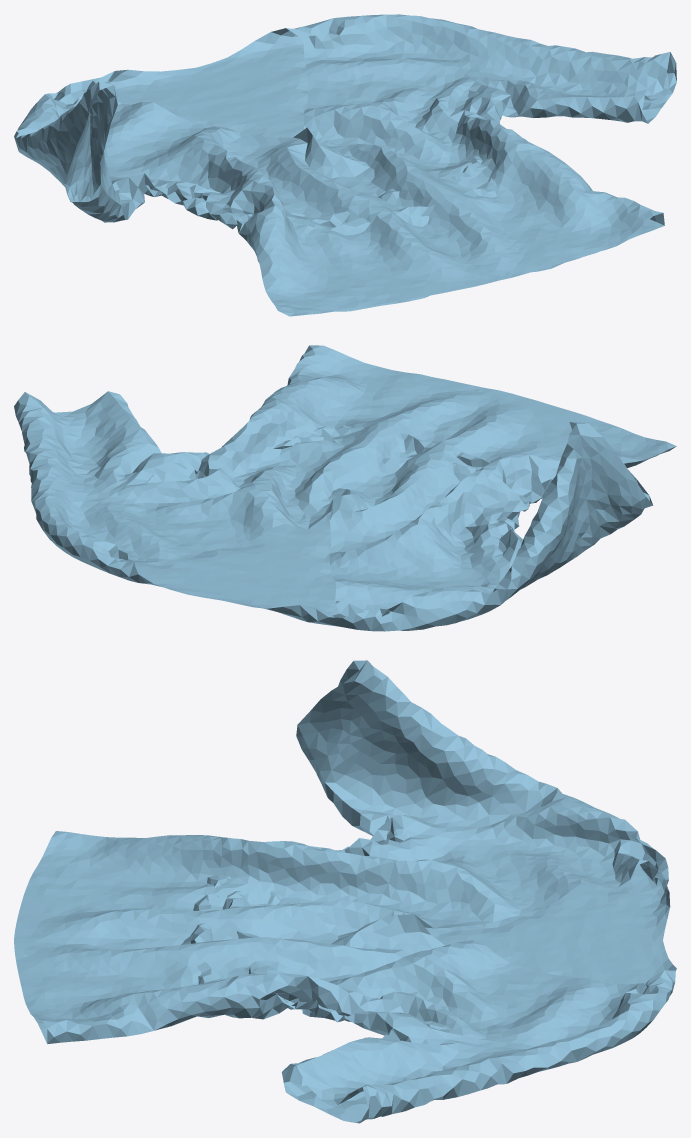
Rendered from frame_08.glb.
3 views of the same model, one above another, from view 1: azimuth 30°, elevation 25°; view 2: azimuth 150°, elevation 25°; view 3: azimuth 270°, elevation 25° (orthographic). The views are drawn at different scales.
Parts seen in each view (by area): view 1: frame_08.obj; view 2: frame_08.obj; view 3: frame_08.obj.
Part boxes in pixels (x1,y1,x2,y2): frame_08.obj: (14,14,676,316); frame_08.obj: (14,345,676,631); frame_08.obj: (14,660,676,1123).
Bounding box in the file's own units: 1.8 × 0.4001 × 1.48.
